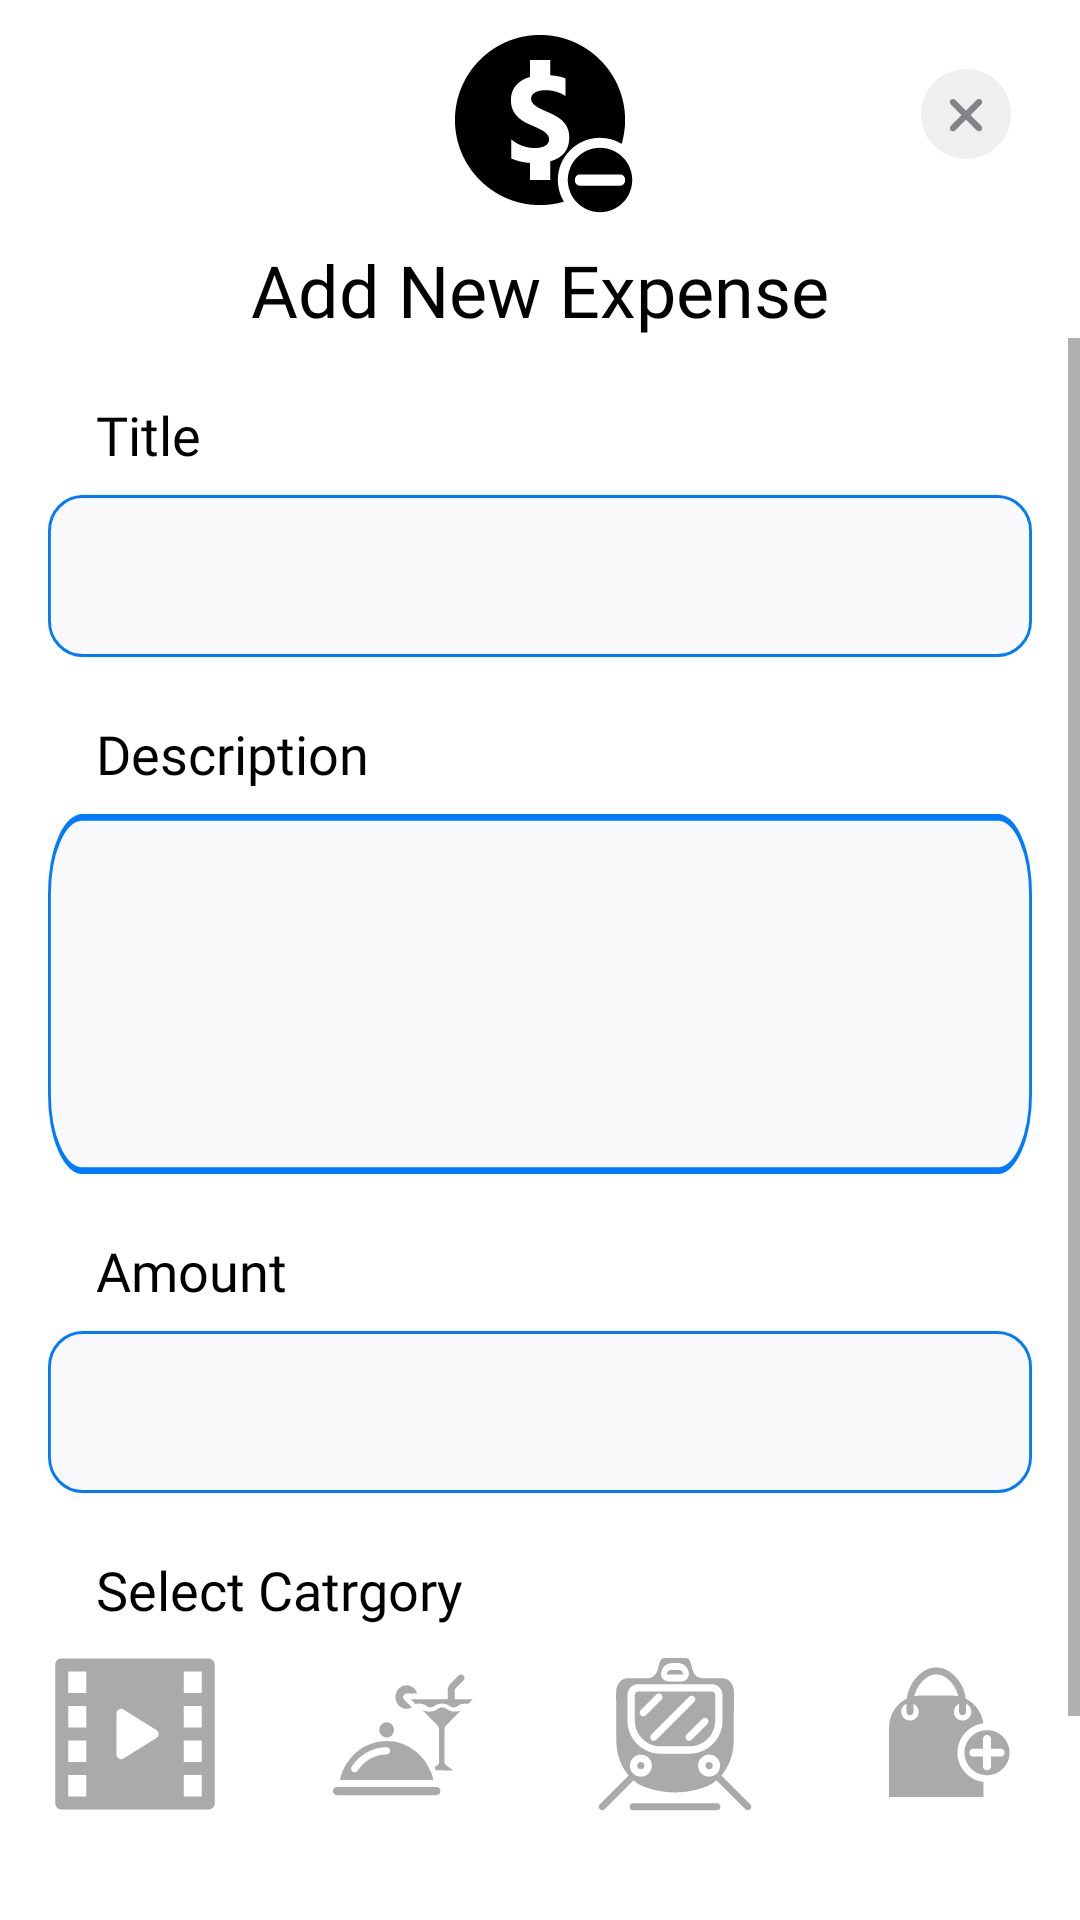

Locate icon controls on the screen. Image size 1080×1920, boxes as (x1, y1, x2, y2).
close: (950, 99, 982, 132)
entertainment: (55, 1658, 215, 1810)
food: (333, 1674, 473, 1795)
shopping: (889, 1667, 1010, 1797)
transport: (599, 1658, 751, 1810)
